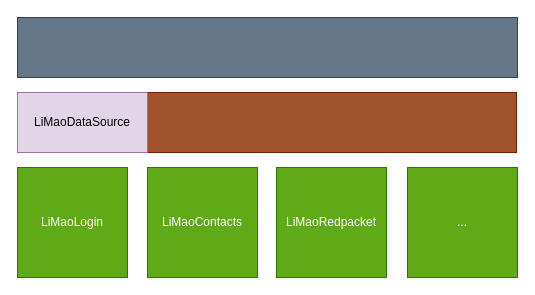
Some shapes in this 535 by 295 pixel diagram are drawn without their labels. The centre of each missing label's shape, as x and y in pixels:
"LiMaoBase" goes at [331,122].
"LiMaoIMSDK" goes at [267,47].
